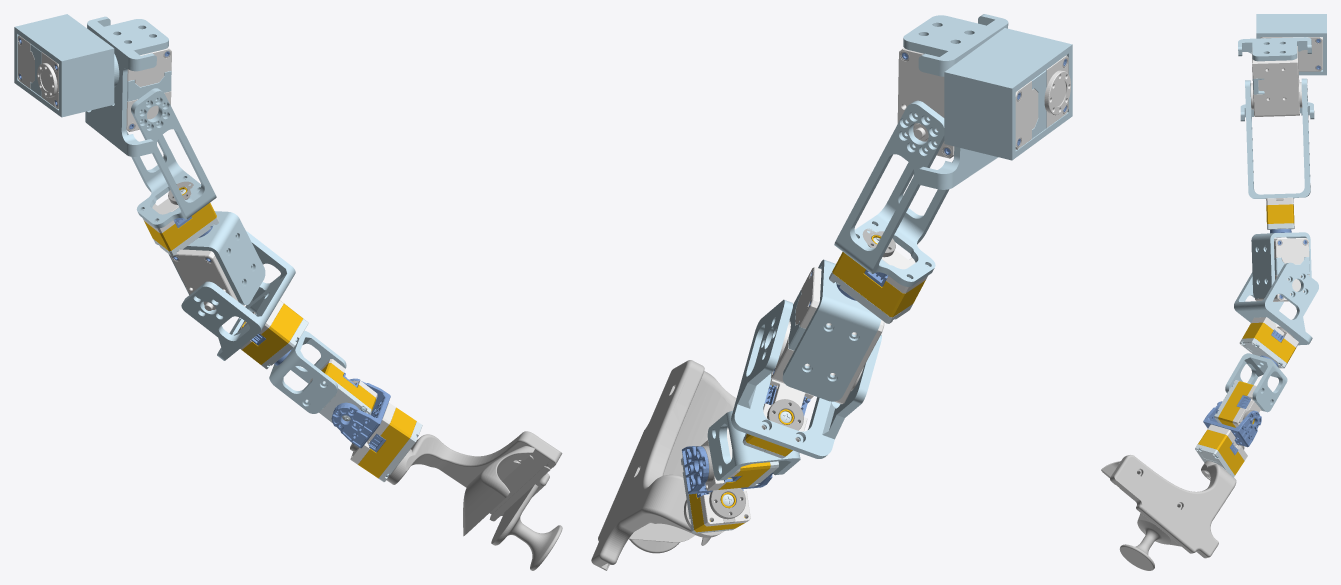
Rendered from joylo-franka.glb.
3 renders of one model, left to right at view 1: azimuth 30°, elevation 25°; view 2: azimuth 150°, elevation 25°; view 3: azimuth 270°, elevation 25°, orthographic. The views are drawn at different scales.
Parts seen in each view (by area): view 1: part_1__2, part_1__3, ljcv2_v1, dc15_a01_case_m_dummy (×4), part_1, part_1__5, dummy_dc12 (×3), part_1__4, part_1__6, ljcv2_v1__3, ljcv2_v1__2, dc15_a01_hinge_1; view 2: part_1__2, part_1__3, ljcv2_v1, part_1__5, dummy_dc12 (×3), part_1__4, part_1, dc15_a01_case_m_dummy (×3), ljcv2_v1__3, part_1__6, ljcv2_v1__2, dc15_a01_horn_idle2_dummy (×2) (+4 smaller); view 3: ljcv2_v1, dummy_dc12 (×3), part_1__5, dc15_a01_case_m_dummy (×4), part_1__2, part_1__3, part_1, part_1__4, part_1__6, ljcv2_v1__2, dc15_a01_case_b_dummy (×3), dc15_a01_case_f_dummy (×2) (+1 smaller).
Boxes of the visible parts, bbox=[...] form: part_1__2: bbox=[14, 14, 114, 117]; part_1__3: bbox=[126, 88, 216, 228]; ljcv2_v1: bbox=[386, 431, 562, 521]; dc15_a01_case_m_dummy (×4): bbox=[144, 203, 416, 478]; part_1: bbox=[85, 16, 168, 156]; part_1__5: bbox=[181, 231, 295, 360]; dummy_dc12 (×3): bbox=[17, 35, 244, 310]; part_1__4: bbox=[168, 211, 265, 304]; part_1__6: bbox=[269, 331, 346, 413]; ljcv2_v1__3: bbox=[463, 446, 534, 536]; ljcv2_v1__2: bbox=[491, 484, 562, 570]; dc15_a01_hinge_1: bbox=[331, 378, 390, 448]; part_1__2: bbox=[944, 28, 1072, 160]; part_1__3: bbox=[834, 100, 953, 286]; ljcv2_v1: bbox=[591, 360, 724, 570]; part_1__5: bbox=[731, 299, 881, 458]; dummy_dc12 (×3): bbox=[771, 48, 1070, 404]; part_1__4: bbox=[782, 259, 881, 401]; part_1: bbox=[903, 14, 1008, 189]; dc15_a01_case_m_dummy (×3): bbox=[689, 252, 925, 532]; ljcv2_v1__3: bbox=[663, 371, 736, 545]; part_1__6: bbox=[707, 410, 800, 480]; ljcv2_v1__2: bbox=[601, 436, 695, 553]; dc15_a01_horn_idle2_dummy (×2): bbox=[709, 399, 803, 519]; ljcv2_v1: bbox=[1110, 455, 1236, 558]; dummy_dc12 (×3): bbox=[1250, 37, 1322, 301]; part_1__5: bbox=[1234, 262, 1318, 345]; dc15_a01_case_m_dummy (×4): bbox=[1198, 204, 1295, 475]; part_1__2: bbox=[1256, 14, 1326, 75]; part_1__3: bbox=[1245, 78, 1310, 198]; part_1: bbox=[1238, 37, 1314, 121]; part_1__4: bbox=[1251, 232, 1311, 298]; part_1__6: bbox=[1225, 353, 1287, 412]; ljcv2_v1__2: bbox=[1119, 506, 1193, 570]; dc15_a01_case_b_dummy (×3): bbox=[1207, 317, 1298, 460]; dc15_a01_case_f_dummy (×2): bbox=[1195, 338, 1286, 477].
Bounding box in the file's own units: 0.2744 × 0.3369 × 0.1679.
